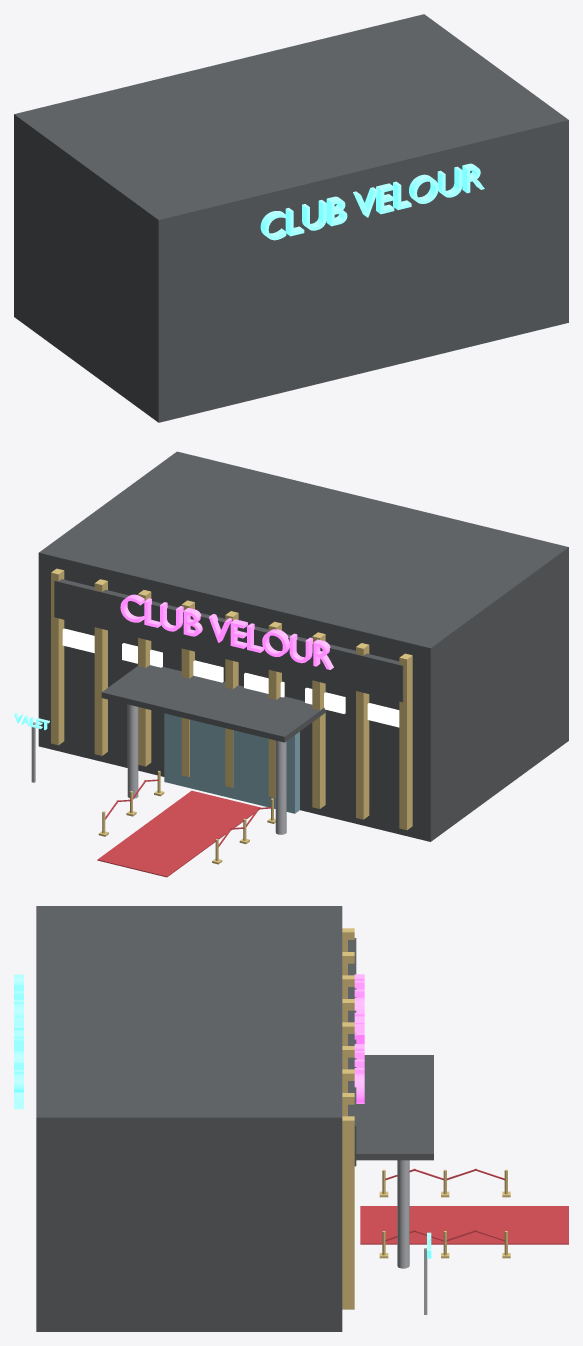
File: club_velour.glb
The picture shows the model from 3 angles, top to bottom: view 1: azimuth 30°, elevation 25°; view 2: azimuth 150°, elevation 25°; view 3: azimuth 270°, elevation 25°; orthographic projection. The views are drawn at different scales.
Parts seen in each view (by area): view 1: BLD_club_velour; view 2: BLD_club_velour; view 3: BLD_club_velour.
Boxes of the visible parts, bbox=[...] form: BLD_club_velour: bbox=[14, 14, 568, 422]; BLD_club_velour: bbox=[14, 451, 568, 877]; BLD_club_velour: bbox=[14, 906, 568, 1331].
Bounding box in the file's own units: 18 × 8.5 × 19.95.
